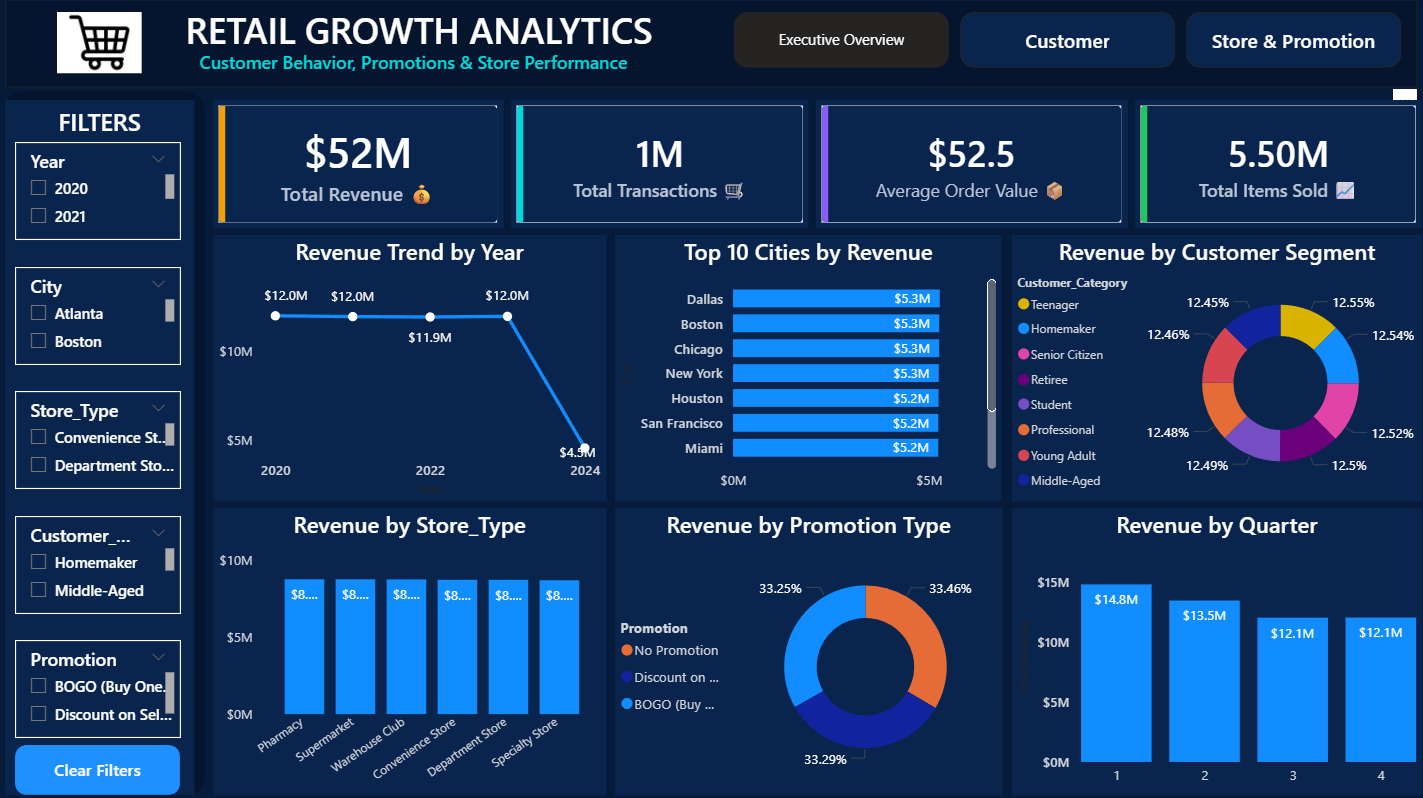

The dashboard page shown, as its layout file describes it:
{"tool":"powerbi","page":{"name":"Executive Overview","canvas":[1280,720],"ordinal":0},"visuals":[{"type":"shape","box":[4.5,82.6,180.4,632],"z":0},{"type":"shape","box":[5.4,0,1268.5,79.9],"z":1000},{"type":"textbox","box":[162.5,0,439.9,55.7],"z":2000},{"type":"image","box":[52.2,11.9,75.9,54.9],"z":3000},{"type":"textbox","box":[175.1,40.4,394.1,30.5],"z":4000},{"type":"cardVisual","fields":{"Data":["retail_dashboard.Total Revenue"]},"box":[192.1,90.6,260.8,115.3],"z":5000},{"type":"cardVisual","fields":{"Data":["retail_dashboard.Total Items Sold"]},"box":[1020.2,90.6,257.1,115.3],"z":6000},{"type":"cardVisual","fields":{"Data":["retail_dashboard.Average Order Value"]},"box":[733.5,90.6,280,115.3],"z":7000},{"type":"cardVisual","fields":{"Data":["retail_dashboard.Total Transactions"]},"box":[459.6,90.6,267.2,115.3],"z":8000},{"type":"lineChart","title":"Revenue Trend by Year","fields":{"Y":["retail_dashboard.Total Revenue"],"Category":["retail_dashboard.Year"]},"box":[192.1,211.4,352.8,238.8],"z":9000},{"type":"clusteredBarChart","title":"Top 10 Cities by Revenue","fields":{"Category":["retail_dashboard.City"],"Y":["retail_dashboard.Total Revenue"]},"box":[553,211.4,347.4,238.8],"z":10000},{"type":"donutChart","title":"Revenue by Customer Segment","fields":{"Category":["retail_dashboard.Customer_Category"],"Y":["retail_dashboard.Total Revenue"]},"box":[909.4,211.4,368.1,238.8],"z":11000},{"type":"clusteredColumnChart","title":"Revenue by Store_Type","fields":{"Category":["retail_dashboard.Store_Type"],"Y":["retail_dashboard.Total Revenue"]},"box":[192.1,456.6,353.2,258],"z":12000},{"type":"donutChart","title":"Revenue by Promotion Type","fields":{"Category":["retail_dashboard.Promotion"],"Y":["retail_dashboard.Total Revenue"]},"box":[552.6,456.6,347.7,258],"z":13000},{"type":"clusteredColumnChart","title":"Revenue by Quarter","fields":{"Category":["retail_dashboard.Quarter"],"Y":["retail_dashboard.Total Revenue"]},"box":[909.4,456.6,367.8,258],"z":14000},{"type":"textbox","box":[5.4,90.7,169.7,623.9],"z":15000},{"type":"slicer","fields":{"Values":["retail_dashboard.City"]},"box":[14.5,240.1,149,88],"z":16000},{"type":"slicer","fields":{"Values":["retail_dashboard.Year"]},"box":[14.4,128.4,149,88],"z":17000},{"type":"slicer","fields":{"Values":["retail_dashboard.Store_Type"]},"box":[14.5,351.9,149,88],"z":18000},{"type":"slicer","fields":{"Values":["retail_dashboard.Customer_Category"]},"box":[14.5,463.7,149,88],"z":19000},{"type":"slicer","fields":{"Values":["retail_dashboard.Promotion"]},"box":[14.5,575.5,149,88],"z":20000},{"type":"actionButton","title":"Clear Filter","box":[14.6,669.7,148.2,44.8],"z":21000},{"type":"pageNavigator","box":[659.7,11.9,600.2,50.3],"z":21001}]}

Visuals, with their boxes in screenshot pixels (x1, y1, x2, y2), scaled from the page's 1280x720 canvas onto the 1423x798 screenshot:
shape: x1=5 y1=92 x2=206 y2=792
shape: x1=6 y1=0 x2=1416 y2=89
textbox: x1=181 y1=0 x2=670 y2=62
image: x1=58 y1=13 x2=142 y2=74
textbox: x1=195 y1=45 x2=633 y2=79
cardVisual - retail_dashboard.Total Revenue: x1=214 y1=100 x2=503 y2=228
cardVisual - retail_dashboard.Total Items Sold: x1=1134 y1=100 x2=1420 y2=228
cardVisual - retail_dashboard.Average Order Value: x1=815 y1=100 x2=1127 y2=228
cardVisual - retail_dashboard.Total Transactions: x1=511 y1=100 x2=808 y2=228
"Revenue Trend by Year" lineChart: x1=214 y1=234 x2=606 y2=499
"Top 10 Cities by Revenue" clusteredBarChart: x1=615 y1=234 x2=1001 y2=499
"Revenue by Customer Segment" donutChart: x1=1011 y1=234 x2=1420 y2=499
"Revenue by Store_Type" clusteredColumnChart: x1=214 y1=506 x2=606 y2=792
"Revenue by Promotion Type" donutChart: x1=614 y1=506 x2=1001 y2=792
"Revenue by Quarter" clusteredColumnChart: x1=1011 y1=506 x2=1420 y2=792
textbox: x1=6 y1=101 x2=195 y2=792
slicer - retail_dashboard.City: x1=16 y1=266 x2=182 y2=364
slicer - retail_dashboard.Year: x1=16 y1=142 x2=182 y2=240
slicer - retail_dashboard.Store_Type: x1=16 y1=390 x2=182 y2=488
slicer - retail_dashboard.Customer_Category: x1=16 y1=514 x2=182 y2=611
slicer - retail_dashboard.Promotion: x1=16 y1=638 x2=182 y2=735
"Clear Filter" actionButton: x1=16 y1=742 x2=181 y2=792
pageNavigator: x1=733 y1=13 x2=1401 y2=69
